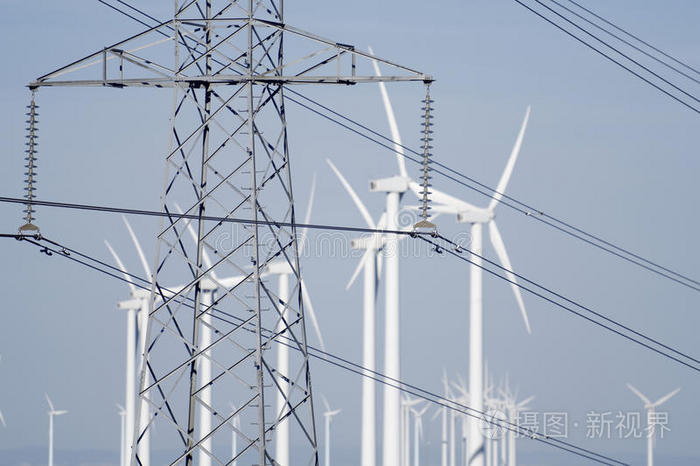insulator: (418, 98, 439, 221), (23, 100, 39, 224)
